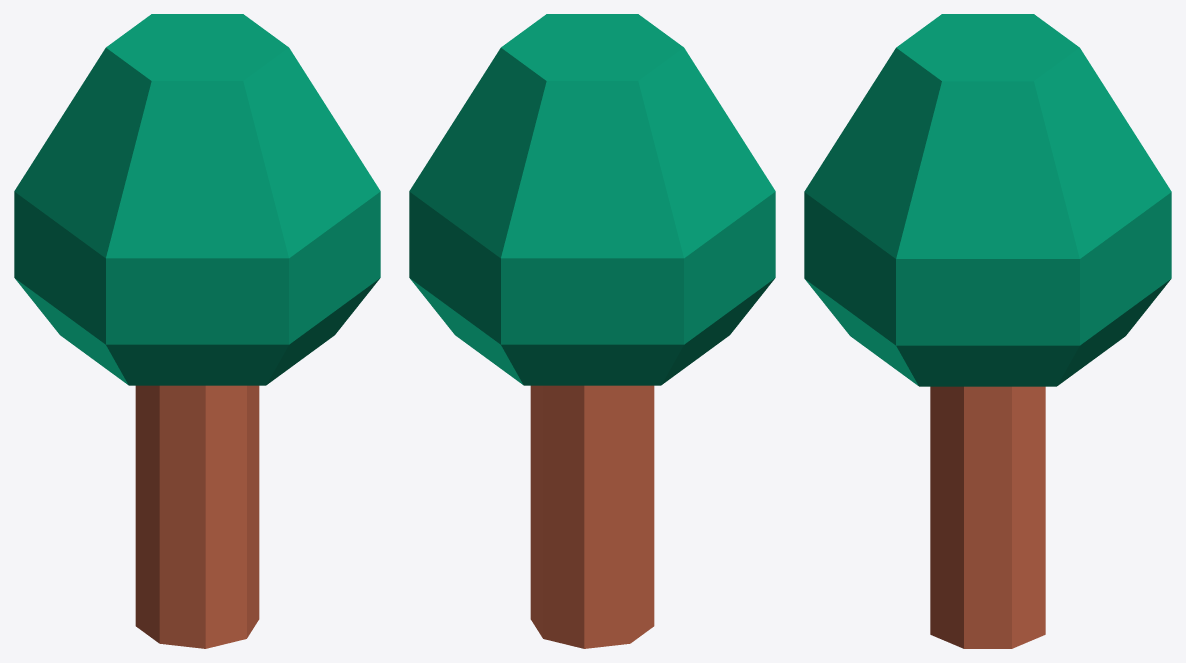
Rendered from Demo_Tree_Roundish.fbx.
3 views of the same model, side by side, from view 1: azimuth 30°, elevation 25°; view 2: azimuth 150°, elevation 25°; view 3: azimuth 270°, elevation 25° (orthographic).
Parts seen in each view (by area): view 1: mergedBlocks; view 2: mergedBlocks; view 3: mergedBlocks.
Part boxes in pixels (x1,y1,x2,y2): mergedBlocks: (14,14,380,648); mergedBlocks: (409,14,775,648); mergedBlocks: (804,14,1171,648).
Bounding box in the file's own units: 10 × 20 × 11.55.
